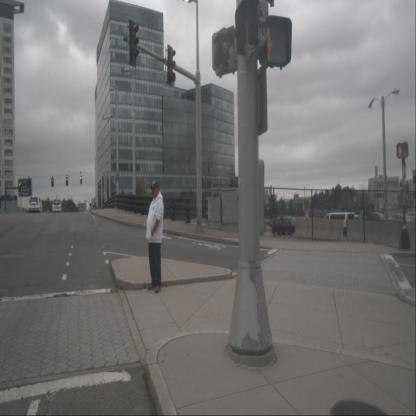human-pedestrian-adult: (146, 180, 164, 294)
vehicle-car: (320, 211, 356, 238), (391, 213, 414, 230), (28, 196, 43, 214), (405, 211, 416, 224), (52, 201, 62, 214)
vehicle-truck: (359, 212, 393, 234), (271, 216, 303, 238)
